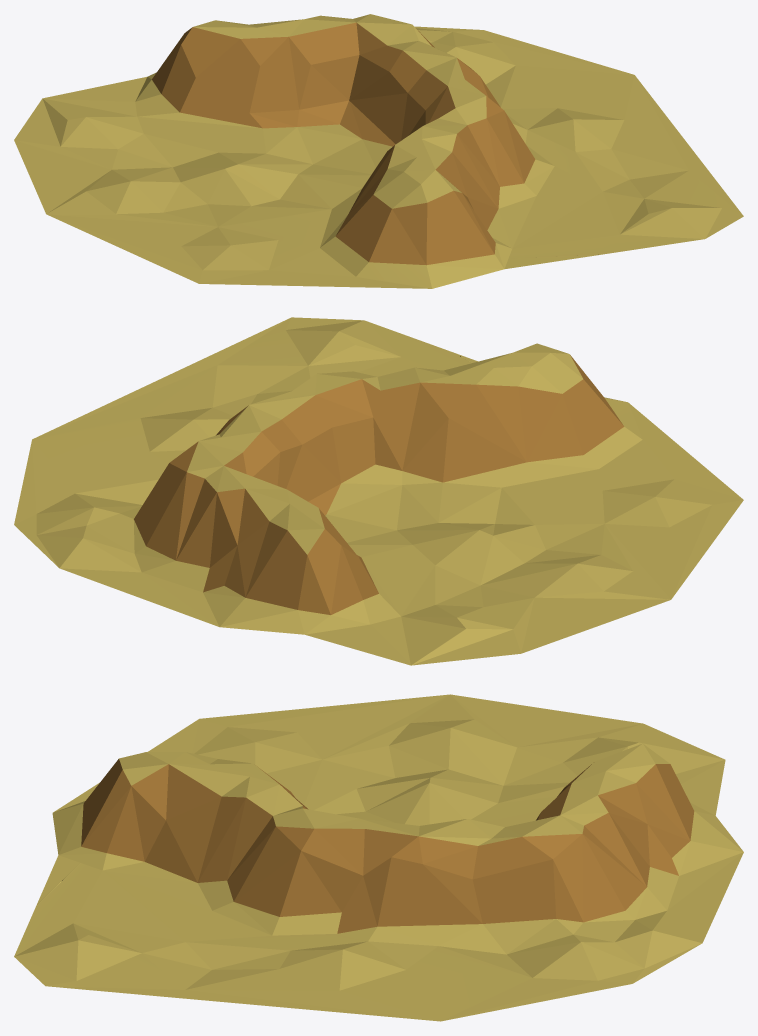
The model's file is Terrain_1_Blender.fbx.
3 views of the same model, one above another, from view 1: azimuth 30°, elevation 25°; view 2: azimuth 150°, elevation 25°; view 3: azimuth 270°, elevation 25° (orthographic). The views are drawn at different scales.
Parts seen in each view (by area): view 1: Terrain_1; view 2: Terrain_1; view 3: Terrain_1.
Part boxes in pixels (bbox=[...]): Terrain_1: bbox=[14, 14, 743, 288]; Terrain_1: bbox=[14, 317, 743, 665]; Terrain_1: bbox=[14, 694, 743, 1021].
Bounding box in the file's own units: 2205 × 277 × 2081.
